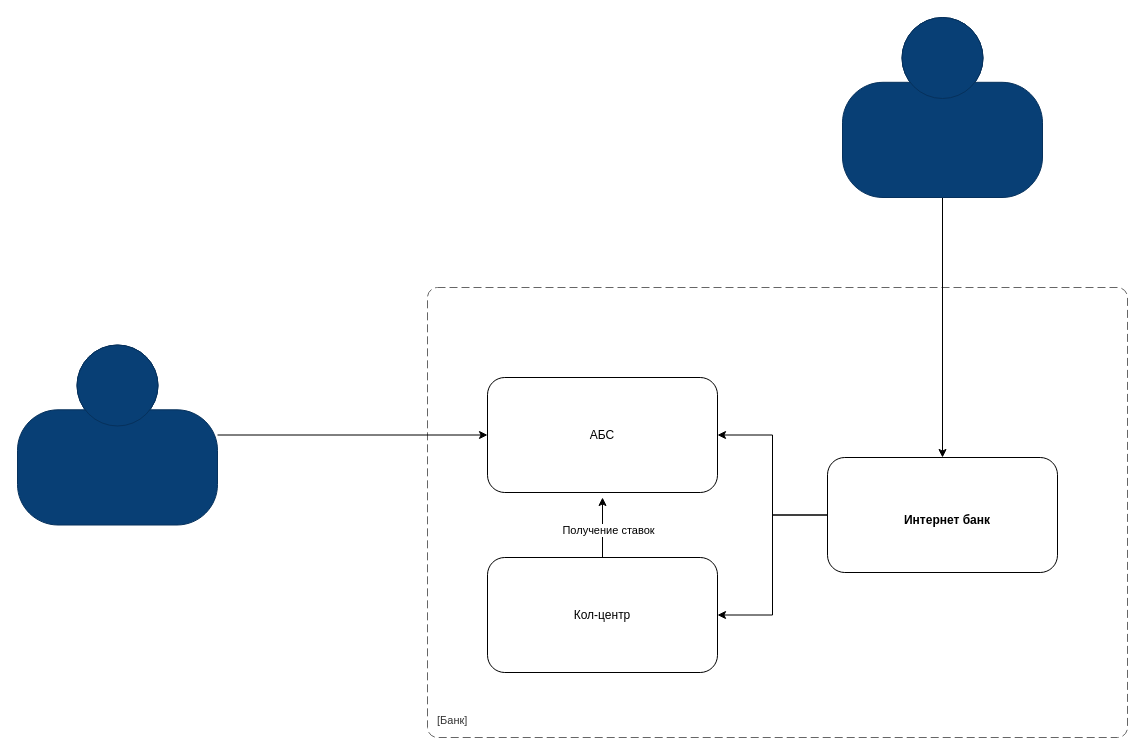
Some shapes in this 1145 by 755 pixel diagram are drawn without their labels. Each missing label, with the centre of its shape:
"Клиент [Person] Клиент" goes at pixel 942 107.
"Менеджер [Person]" goes at pixel 117 434.
